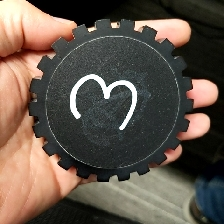gear: (26, 17, 195, 184)
